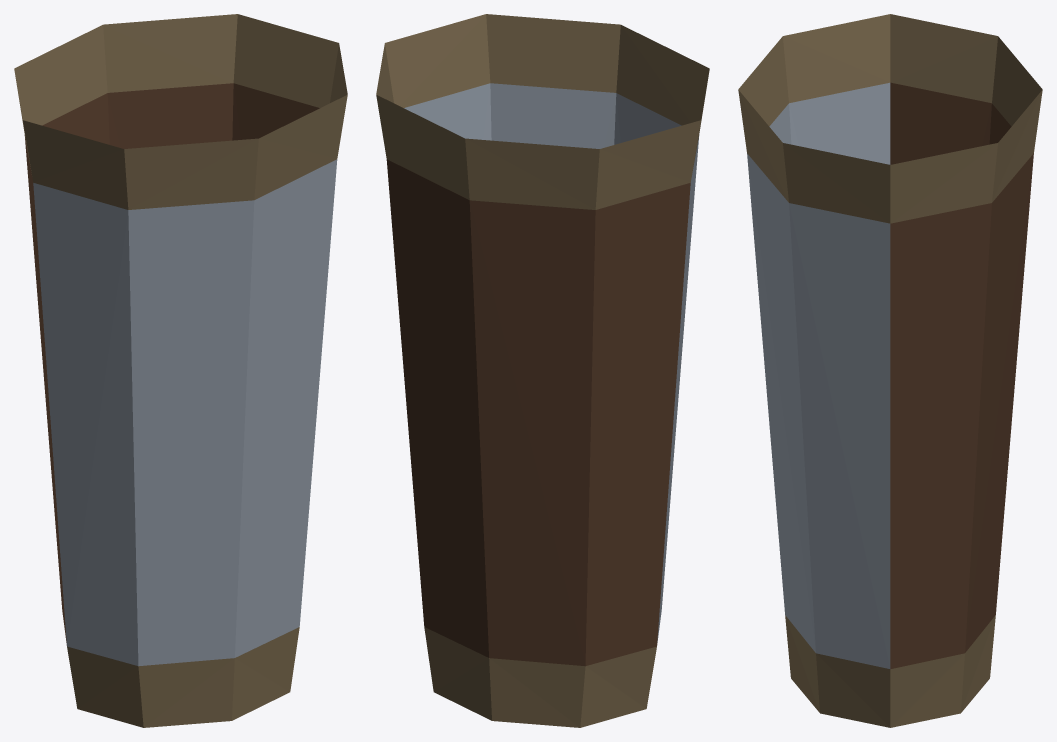
Rendered from Bracer.fbx.
3 views of the same model, side by side, from view 1: azimuth 30°, elevation 25°; view 2: azimuth 150°, elevation 25°; view 3: azimuth 270°, elevation 25° (orthographic). The views are drawn at different scales.
Parts seen in each view (by area): view 1: 05_Bracer; view 2: 05_Bracer; view 3: 05_Bracer.
Part boxes in pixels (x1,y1,x2,y2): 05_Bracer: [14, 14, 347, 727]; 05_Bracer: [376, 14, 709, 727]; 05_Bracer: [738, 14, 1042, 727].
Size of the model in its own units: 12.2 by 22.2 by 10.4.
